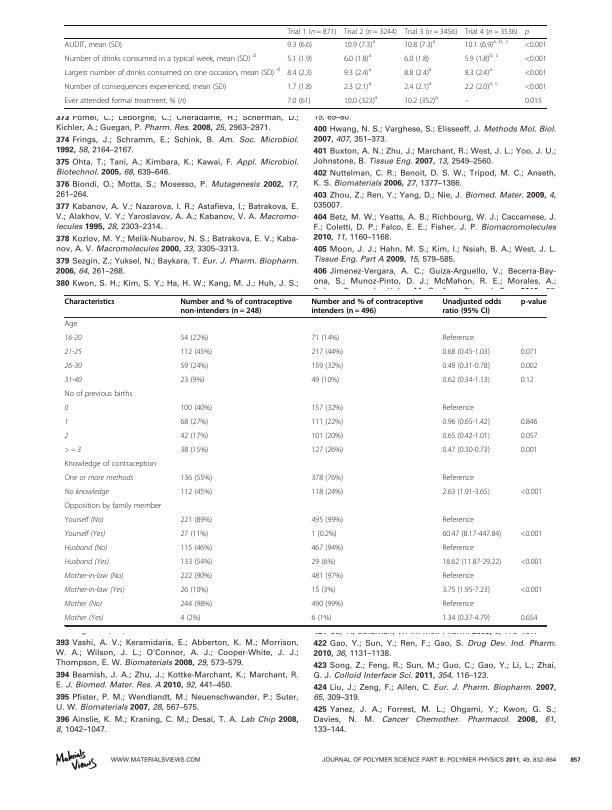borderless: (63, 294, 546, 625), (63, 23, 547, 108)
cell: (64, 66, 281, 78), (64, 52, 257, 64), (179, 298, 293, 316), (310, 298, 424, 316), (64, 82, 227, 92), (64, 96, 187, 106), (441, 298, 502, 316), (64, 502, 162, 512), (64, 460, 157, 470), (64, 390, 133, 400), (64, 474, 134, 483), (441, 530, 502, 540), (441, 558, 502, 568), (64, 40, 123, 50), (64, 586, 126, 595), (464, 38, 509, 50), (64, 572, 124, 581), (441, 348, 491, 358), (441, 362, 491, 372), (441, 376, 491, 386), (441, 418, 491, 428), (441, 432, 491, 442), (441, 446, 491, 456), (441, 488, 491, 498), (441, 586, 491, 596), (441, 614, 491, 624), (343, 27, 398, 36), (403, 27, 458, 36), (464, 27, 519, 36), (64, 298, 116, 307), (64, 488, 110, 498), (286, 27, 337, 36), (403, 94, 439, 106), (464, 52, 499, 64), (464, 80, 499, 92), (343, 94, 378, 106), (64, 558, 110, 567), (343, 38, 376, 50), (403, 38, 436, 50), (64, 544, 108, 553), (64, 530, 106, 539), (64, 516, 105, 525), (64, 614, 104, 623), (64, 600, 103, 609), (343, 52, 372, 64), (343, 66, 372, 78), (403, 66, 432, 78), (464, 66, 493, 78), (343, 80, 372, 92), (403, 80, 432, 92), (441, 334, 475, 344), (179, 348, 213, 358), (310, 348, 344, 358), (310, 362, 344, 372), (179, 404, 213, 414), (310, 404, 344, 414), (441, 404, 475, 414), (310, 418, 344, 428), (310, 432, 344, 442), (310, 446, 344, 456), (179, 474, 213, 484), (310, 474, 344, 484), (441, 474, 475, 484), (179, 488, 213, 498), (310, 488, 344, 498), (179, 516, 213, 526), (310, 516, 344, 526), (441, 516, 475, 526), (179, 544, 213, 554), (310, 544, 344, 554), (441, 544, 475, 554), (179, 558, 213, 568), (179, 572, 213, 582), (310, 572, 344, 582), (441, 572, 475, 582), (179, 600, 213, 610), (310, 600, 344, 610), (441, 600, 475, 610), (179, 334, 209, 344), (310, 334, 340, 344), (179, 362, 209, 372), (310, 376, 340, 386), (179, 418, 209, 428), (179, 432, 209, 442), (179, 446, 209, 456), (179, 530, 209, 540), (179, 586, 209, 596), (310, 530, 338, 540), (286, 40, 313, 50), (286, 54, 313, 64), (403, 54, 430, 64), (286, 68, 313, 78), (286, 82, 313, 92), (179, 376, 205, 386), (310, 558, 336, 568), (310, 586, 336, 596), (286, 96, 311, 106), (520, 298, 547, 307), (524, 40, 547, 50), (524, 54, 547, 64), (524, 68, 547, 78), (524, 82, 547, 92), (520, 488, 543, 498), (520, 530, 543, 540), (520, 558, 543, 568), (520, 586, 543, 596), (179, 614, 201, 624), (310, 614, 332, 624), (524, 96, 543, 106), (520, 348, 538, 358), (520, 362, 538, 372), (520, 418, 538, 428), (520, 432, 538, 442), (520, 446, 538, 456), (520, 614, 538, 624), (64, 334, 82, 343), (64, 348, 82, 357), (64, 362, 82, 371), (64, 376, 82, 385), (64, 446, 82, 455), (520, 376, 535, 386), (64, 320, 78, 330), (64, 404, 69, 413), (64, 418, 69, 427), (64, 432, 69, 441), (524, 29, 530, 36), (464, 100, 470, 104)
